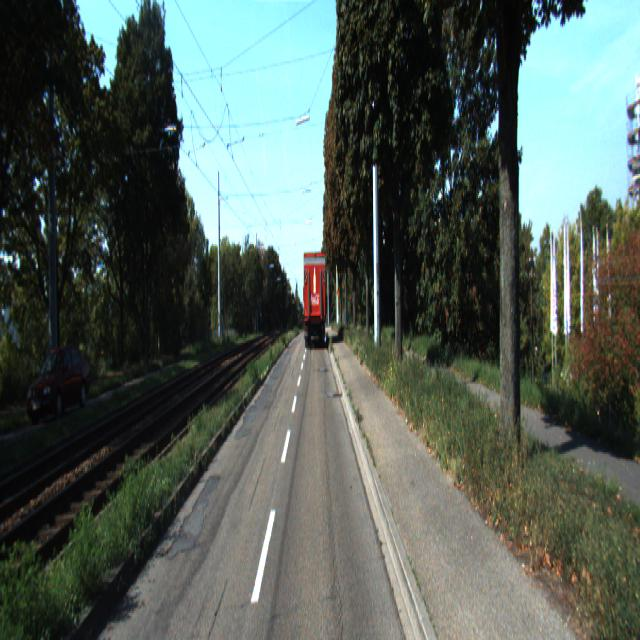Car: (27, 343, 95, 428), (302, 250, 327, 349)
